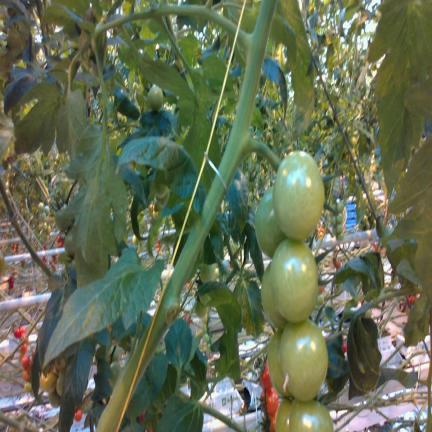6kp_peduncle: (219, 95, 283, 185)
6kp_petiole: (217, 4, 275, 101)
MainStem: (95, 1, 276, 430), (0, 180, 54, 278)
tomato: (273, 151, 324, 240), (279, 319, 328, 401), (270, 238, 317, 322), (255, 188, 285, 257), (261, 264, 286, 329), (267, 330, 290, 396), (290, 399, 333, 431), (276, 398, 291, 431), (265, 387, 279, 414), (40, 371, 57, 393), (148, 84, 162, 110), (109, 361, 121, 389), (260, 363, 272, 389), (200, 263, 215, 282), (194, 299, 207, 318), (156, 192, 169, 209), (155, 182, 168, 198), (48, 392, 60, 407), (56, 371, 63, 395), (21, 354, 30, 370), (270, 412, 276, 431), (74, 409, 82, 421), (22, 370, 30, 382), (337, 199, 344, 212), (24, 382, 32, 392), (21, 342, 27, 354), (364, 309, 372, 318), (362, 214, 368, 226), (336, 213, 343, 223), (44, 205, 50, 215), (336, 224, 342, 234), (38, 202, 44, 211), (331, 216, 336, 226), (337, 234, 343, 242), (42, 222, 47, 231), (365, 220, 370, 229), (41, 212, 45, 220)
